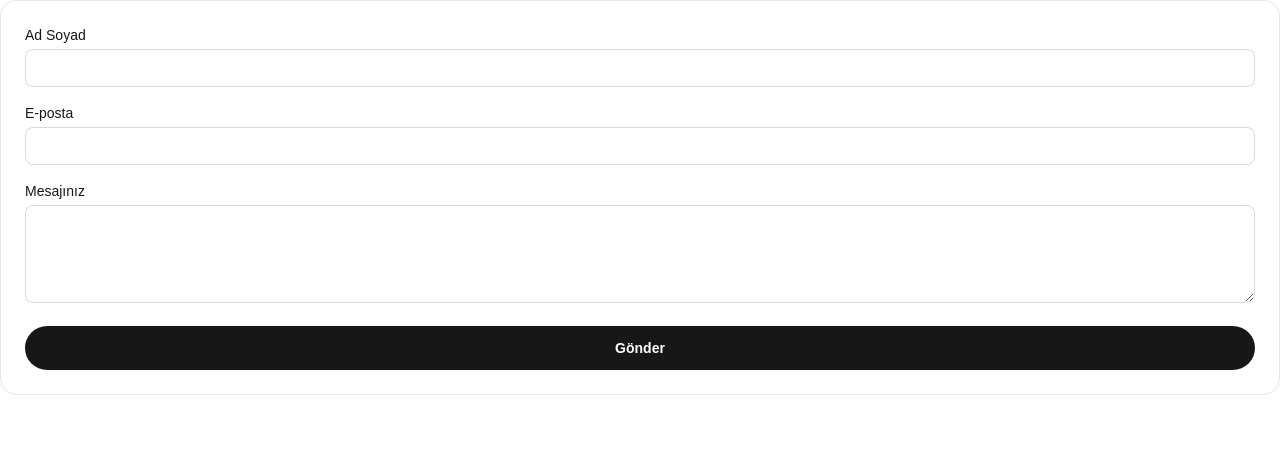
Test: ContactForm (varsayılan: e-posta kapalı) › gönderimde 'yakında' notunu telefonla gösterir ve action'ı çağırmaz
This screenshot has width=1280, height=472.
Step 1. Click the button "Gönder" → (640, 348), box [25, 326, 1255, 370]
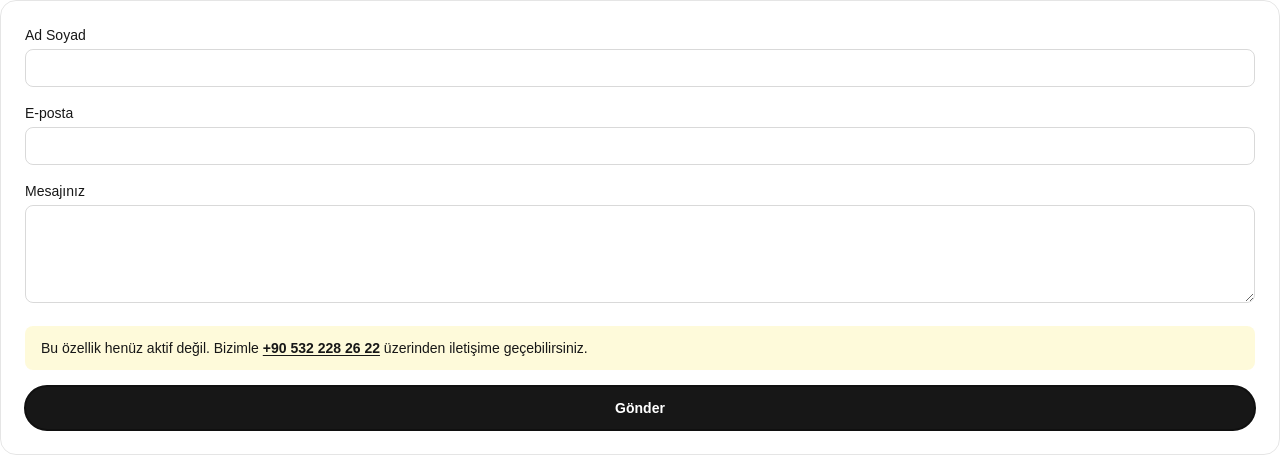
Expected: the message shows "Bu özellik henüz aktif değil", [41, 340, 259, 356]
Expected: the message shows "+90 532 228 26 22", [263, 340, 380, 356]
